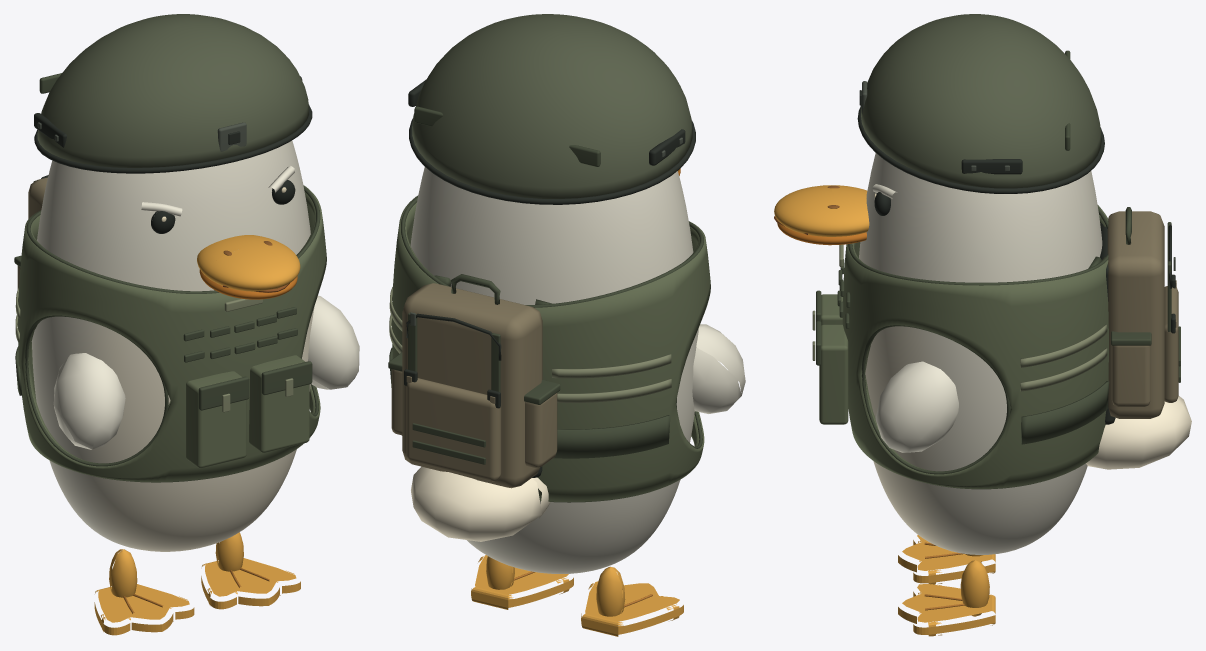
Rendered from goose-wrap-armor.glb.
The picture shows the model from 3 angles, left to right: view 1: azimuth 30°, elevation 25°; view 2: azimuth 150°, elevation 25°; view 3: azimuth 270°, elevation 25°; orthographic projection. The views are drawn at different scales.
Visible parts, largest first — view 1: goose_torso_mesh, goose_vest_wrap_mesh, goose_helmet_field_mesh, goose_leftArm_mesh, goose_beak_mesh, goose_leftFoot_mesh, goose_rightFoot_mesh, goose_rightArm_mesh, goose_pack_field_mesh; view 2: goose_helmet_field_mesh, goose_torso_mesh, goose_vest_wrap_mesh, goose_pack_field_mesh, goose_tail_mesh, goose_leftFoot_mesh, goose_leftArm_mesh, goose_rightFoot_mesh; view 3: goose_torso_mesh, goose_vest_wrap_mesh, goose_helmet_field_mesh, goose_pack_field_mesh, goose_rightArm_mesh, goose_beak_mesh, goose_tail_mesh, goose_rightFoot_mesh, goose_leftFoot_mesh.
Part boxes in pixels (x1,y1,x2,y2): goose_torso_mesh: (31, 140, 314, 551); goose_vest_wrap_mesh: (15, 185, 326, 482); goose_helmet_field_mesh: (34, 14, 312, 173); goose_leftArm_mesh: (53, 353, 125, 449); goose_beak_mesh: (197, 235, 300, 299); goose_leftFoot_mesh: (94, 549, 194, 635); goose_rightFoot_mesh: (201, 532, 300, 609); goose_rightArm_mesh: (308, 295, 359, 389); goose_pack_field_mesh: (14, 175, 48, 289); goose_helmet_field_mesh: (408, 14, 695, 204); goose_torso_mesh: (410, 167, 698, 573); goose_vest_wrap_mesh: (389, 195, 710, 502); goose_pack_field_mesh: (388, 274, 560, 488); goose_tail_mesh: (411, 466, 550, 541); goose_leftFoot_mesh: (581, 566, 683, 636); goose_leftArm_mesh: (692, 324, 745, 413); goose_rightFoot_mesh: (471, 555, 573, 609); goose_torso_mesh: (859, 153, 1102, 554); goose_vest_wrap_mesh: (812, 205, 1109, 489); goose_helmet_field_mesh: (857, 14, 1104, 193); goose_pack_field_mesh: (1088, 207, 1180, 424); goose_rightArm_mesh: (875, 361, 958, 452); goose_beak_mesh: (774, 185, 869, 245); goose_tail_mesh: (1086, 396, 1191, 469); goose_rightFoot_mesh: (898, 560, 995, 636); goose_leftFoot_mesh: (898, 535, 995, 584).
Bounding box in the file's own units: 1.1 × 2.03 × 1.37.
